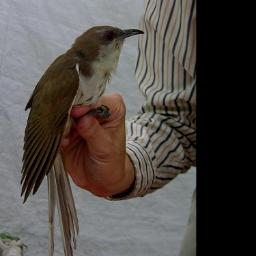Cuckoo: (22, 23, 145, 256)
